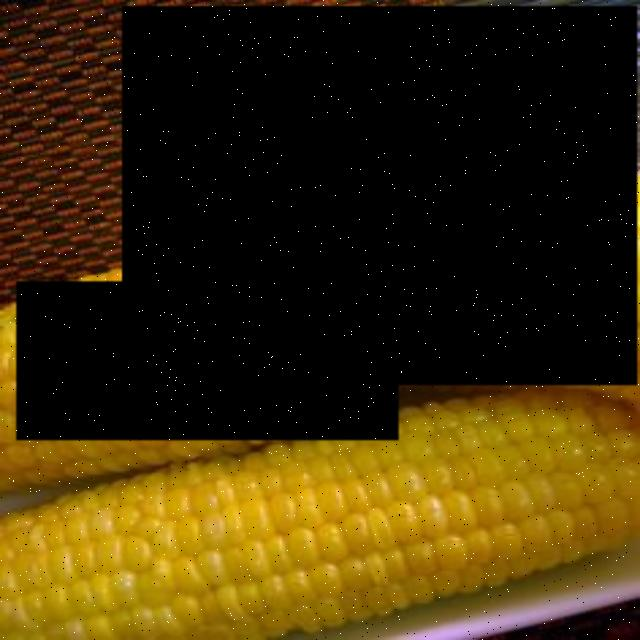Corn: (124, 7, 640, 386), (16, 282, 399, 441)
